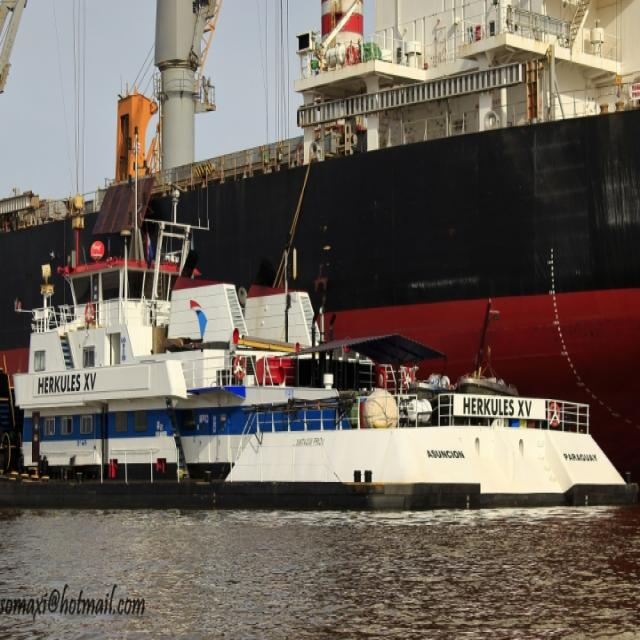tugboat: (1, 210, 640, 524)
